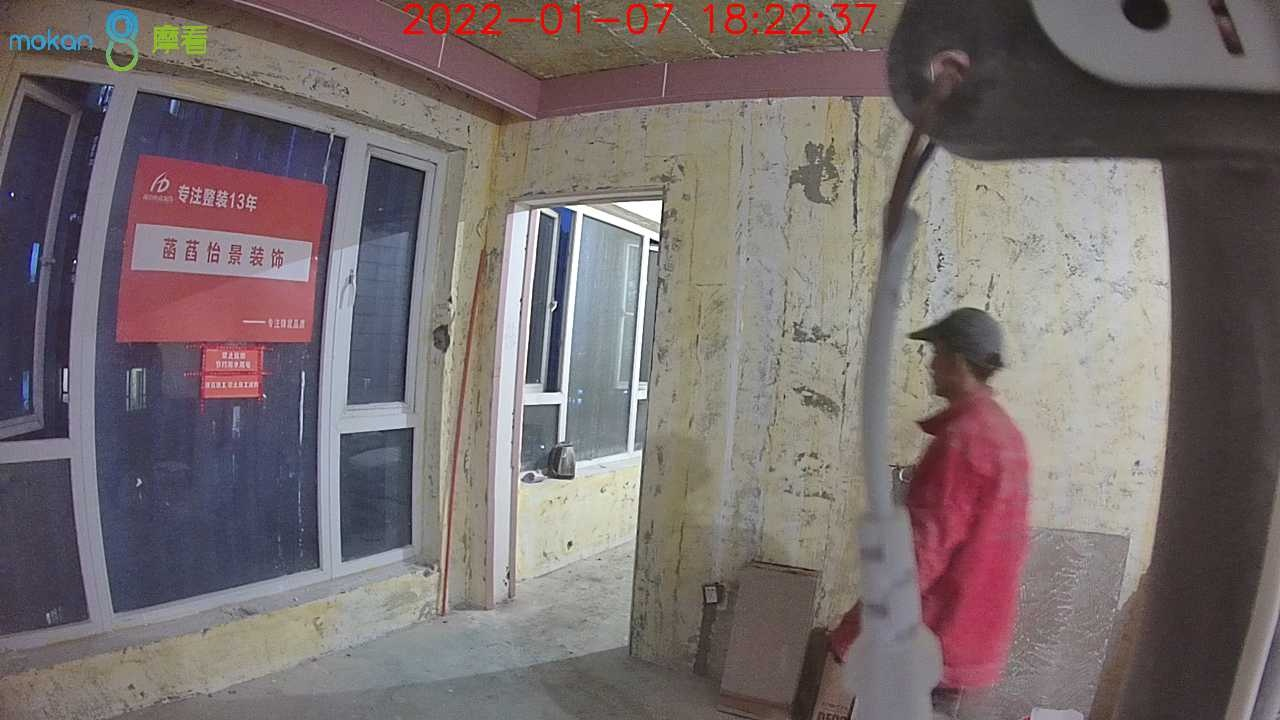people: (836, 308, 1031, 720)
window: (1, 48, 436, 659)
